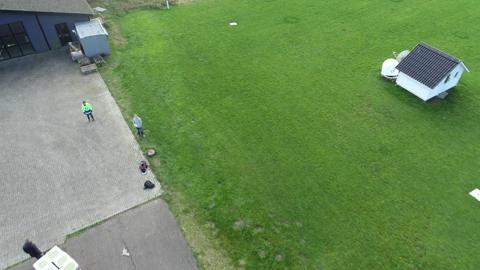RockwoolPallet: (36, 245, 84, 270)
